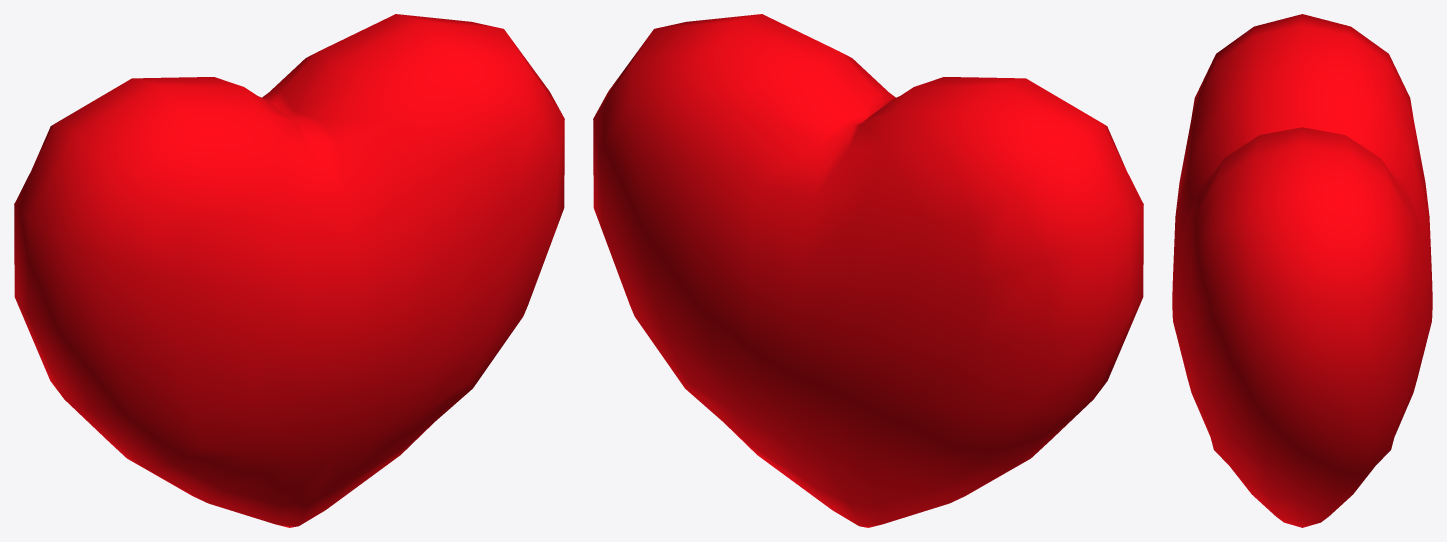
Rendered from HeartLowPoly.fbx.
3 views of the same model, side by side, from view 1: azimuth 30°, elevation 25°; view 2: azimuth 150°, elevation 25°; view 3: azimuth 270°, elevation 25° (orthographic). The views are drawn at different scales.
Parts seen in each view (by area): view 1: Vert; view 2: Vert; view 3: Vert.
Boxes of the visible parts, x1,y1,x2,y2 form: Vert: (14, 14, 564, 527); Vert: (593, 14, 1143, 527); Vert: (1172, 14, 1432, 527).
Size of the model in its own units: 283 by 245 by 131.
